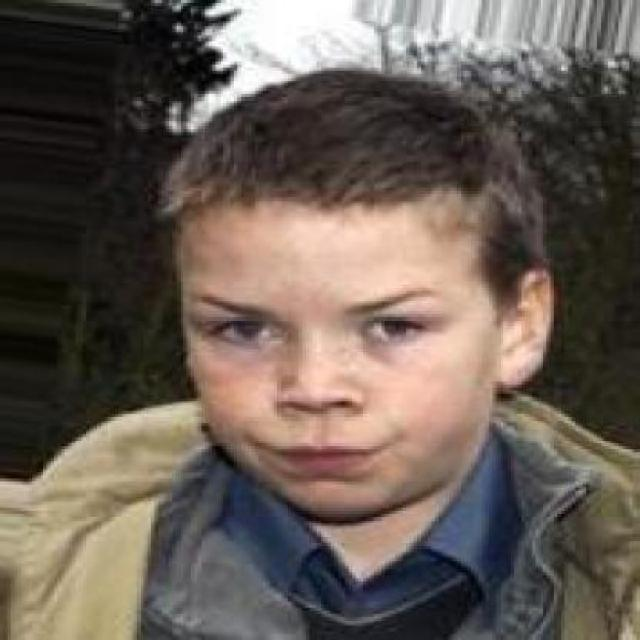closed-mouth: (255, 436, 394, 476)
